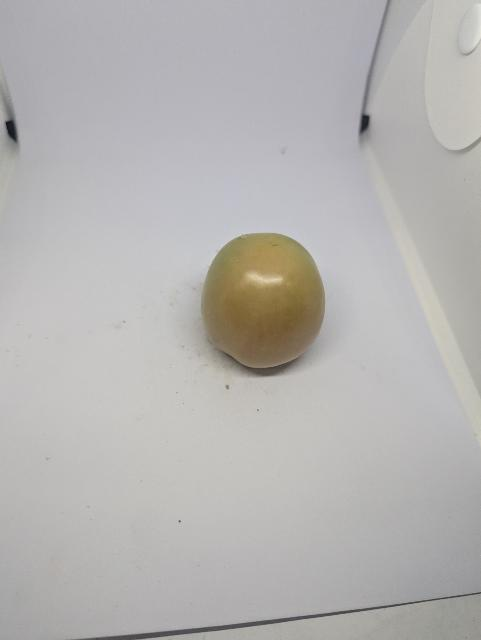breaker: (202, 233, 326, 368)
